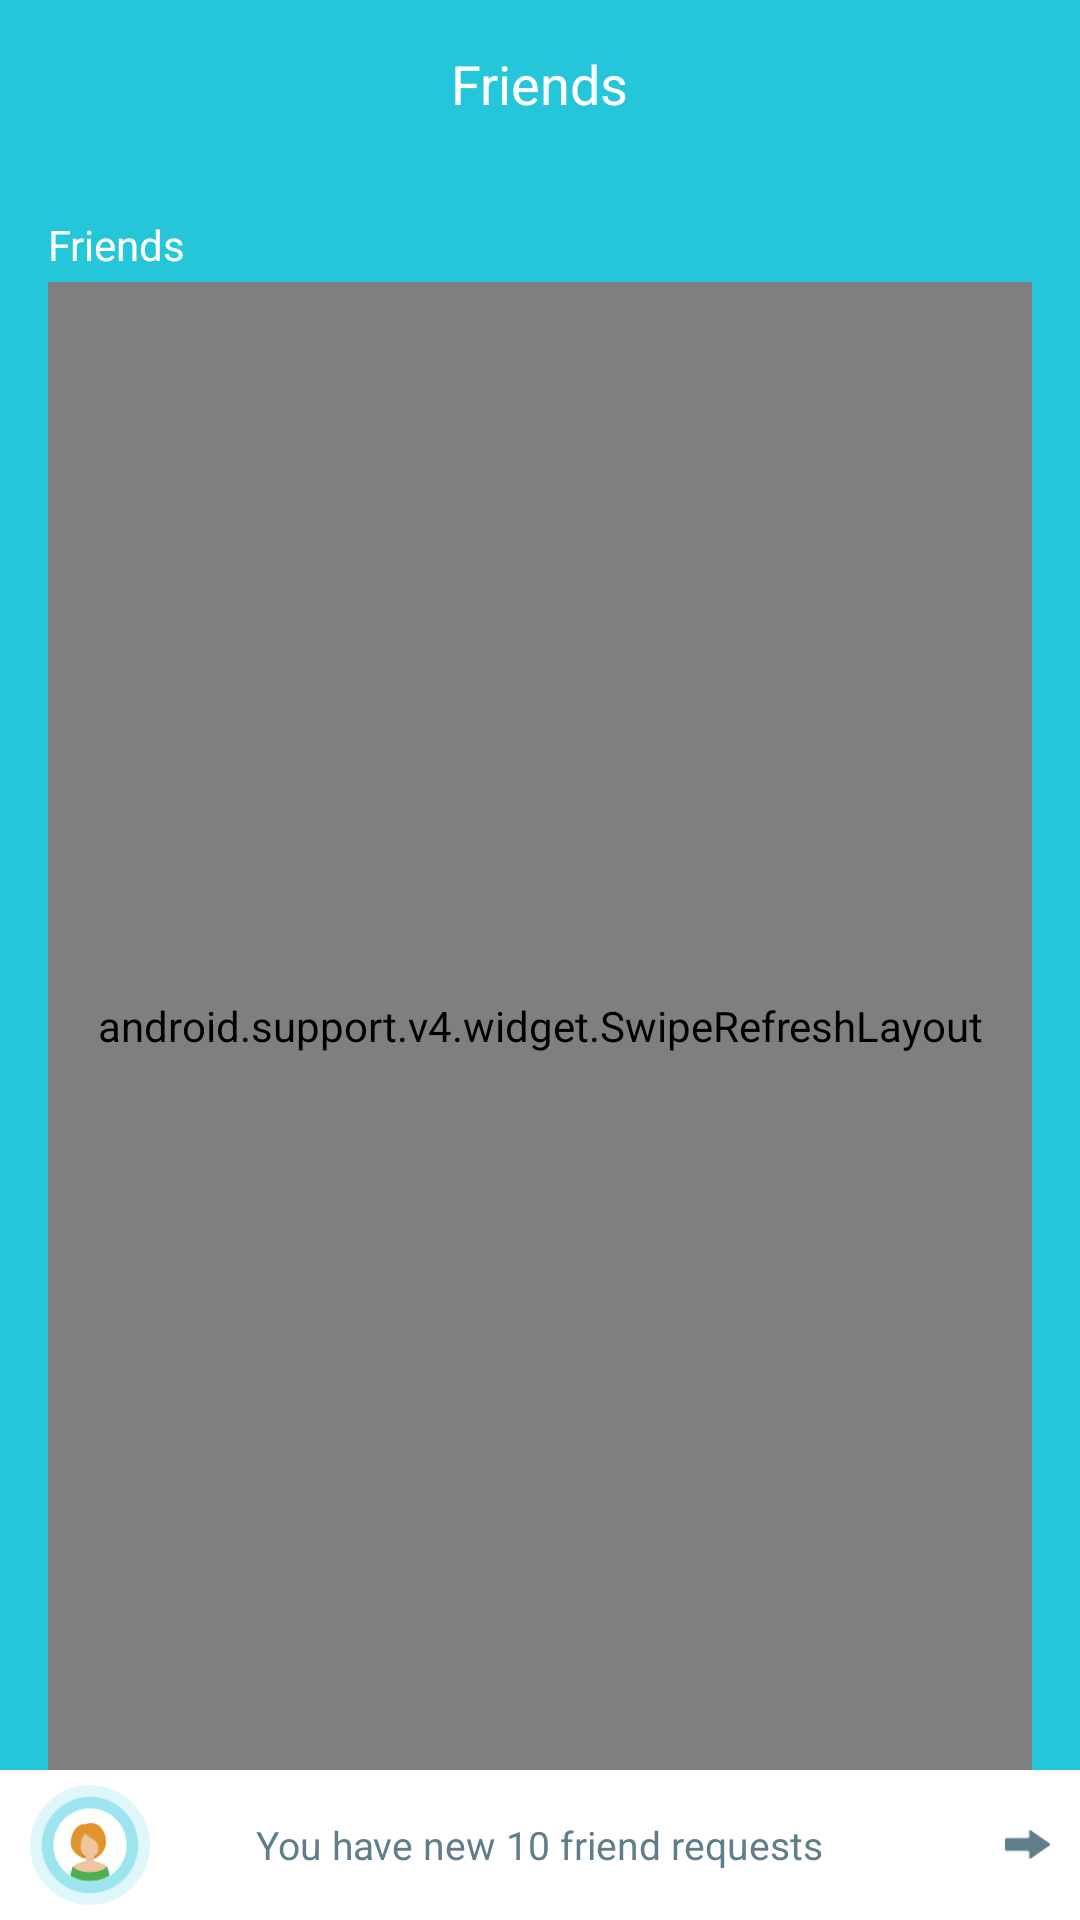

Named icons in this screenshot (1080*1920) and their centers, [x,y]:
right arrow: [1027,1844]
